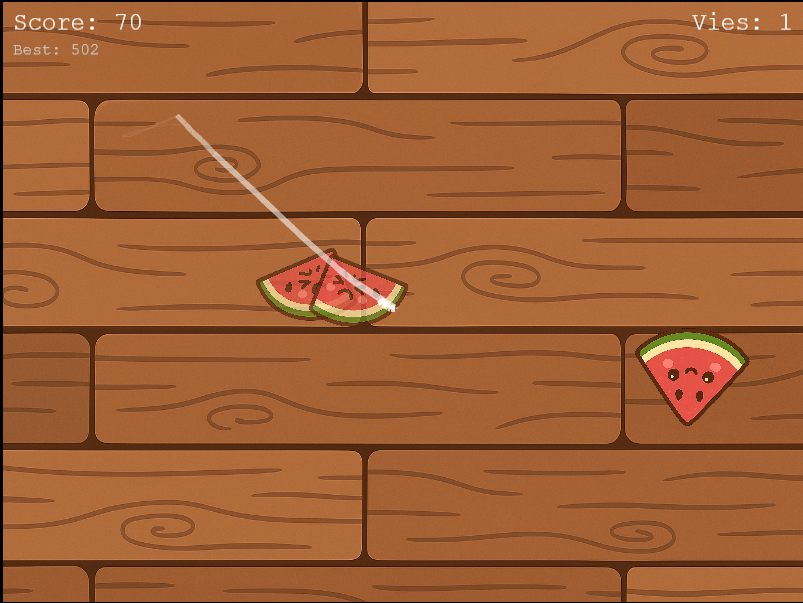fruit: (630, 314, 750, 434)
